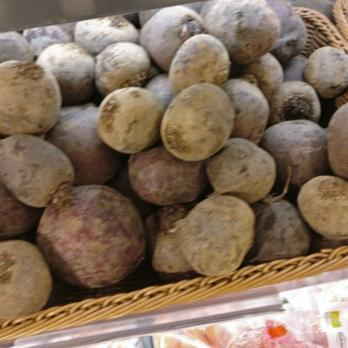beetroot: (0, 30, 348, 240), (0, 238, 206, 275), (146, 7, 323, 38)
